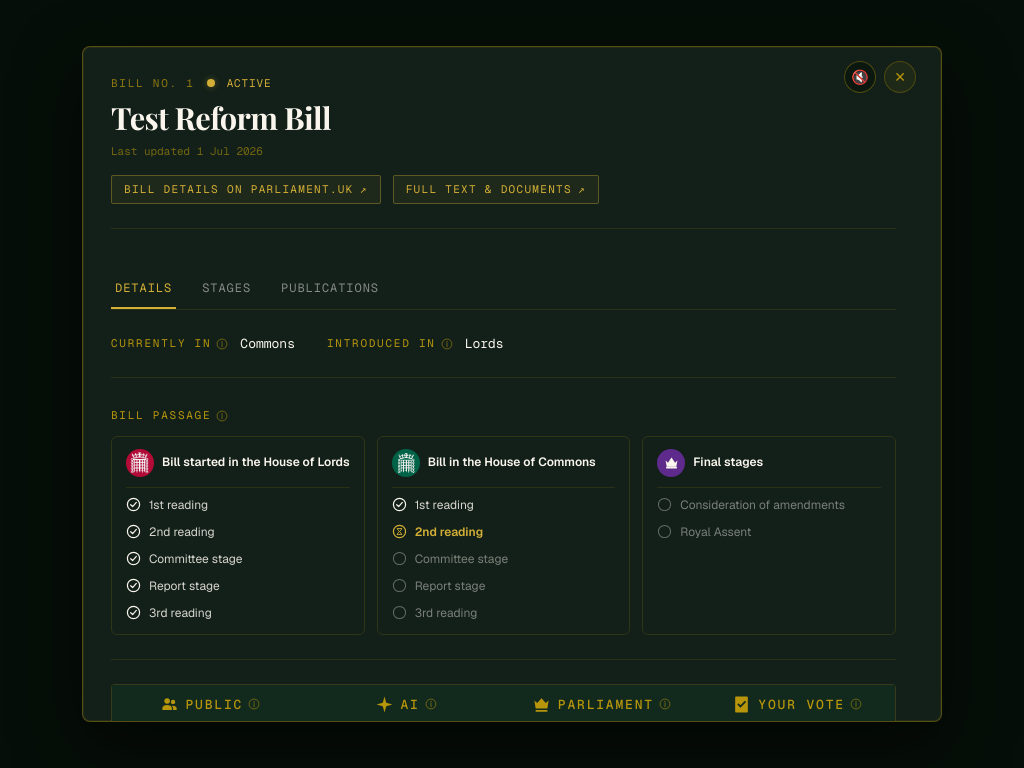
Test: BillDetailModal › switches to the Stages tab and lists every stage the bill has reached
Click the tab "Stages".
click(227, 290)  # box [198,271,255,309]
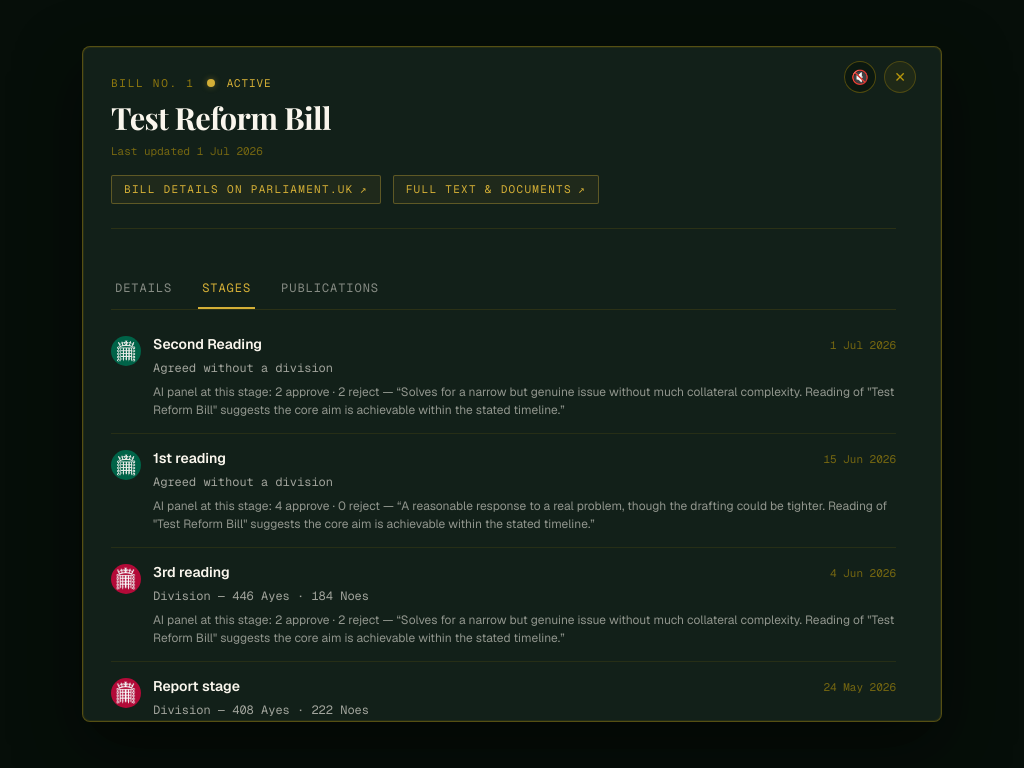
Check: the text "Second Reading" is shown, box [153,334,262,355]
Check: the text "Agreed without a division" below "Second Reading" is shown, box [153,360,333,376]
Check: the text "AI panel at this stage" below "Second Reading" is shown, box [153,384,275,400]
